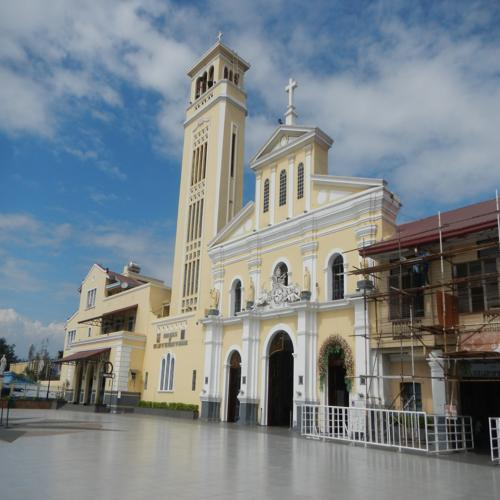Manaoag Church: (155, 27, 401, 440)
